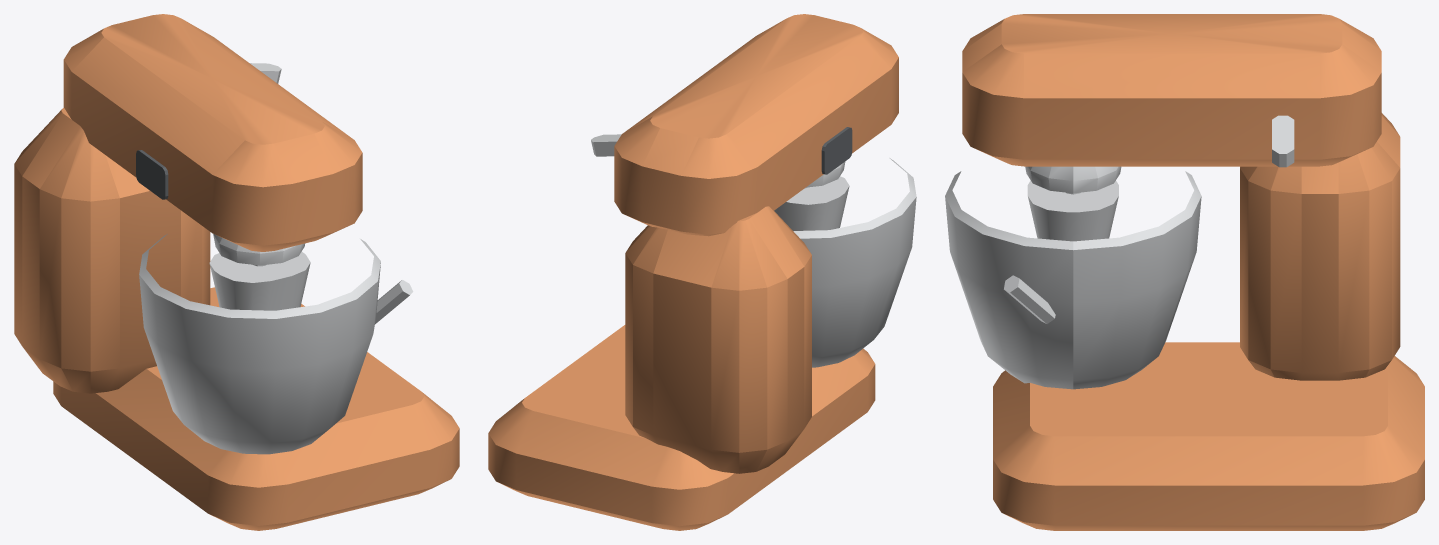
Rendered from home-appliances-and-utility-stand-mixer-a018d299__14121.glb.
The picture shows the model from 3 angles, left to right: view 1: azimuth 30°, elevation 25°; view 2: azimuth 150°, elevation 25°; view 3: azimuth 270°, elevation 25°; orthographic projection. The views are drawn at different scales.
Parts seen in each view (by area): view 1: stand-mixer; view 2: stand-mixer; view 3: stand-mixer.
Part boxes in pixels (<box>): stand-mixer: <box>14,14,459,530</box>; stand-mixer: <box>488,14,916,530</box>; stand-mixer: <box>945,14,1424,530</box>.
Bounding box in the file's own units: 0.29 × 0.37 × 0.389.
